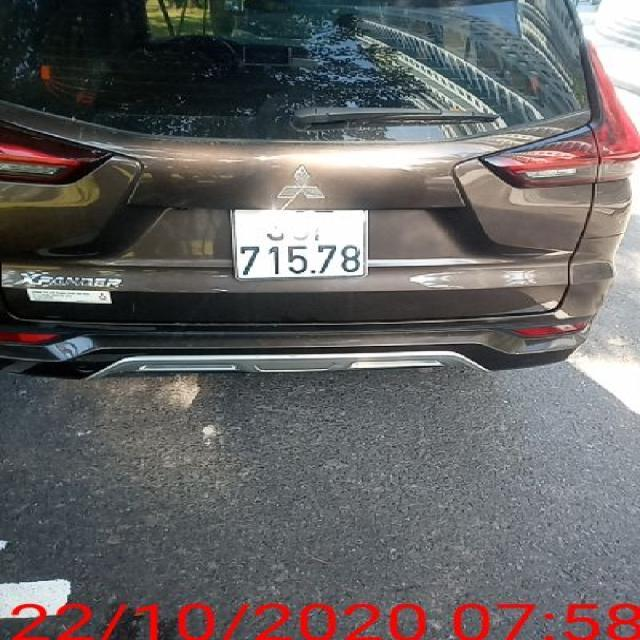bien_so_oto: (230, 208, 372, 282)
